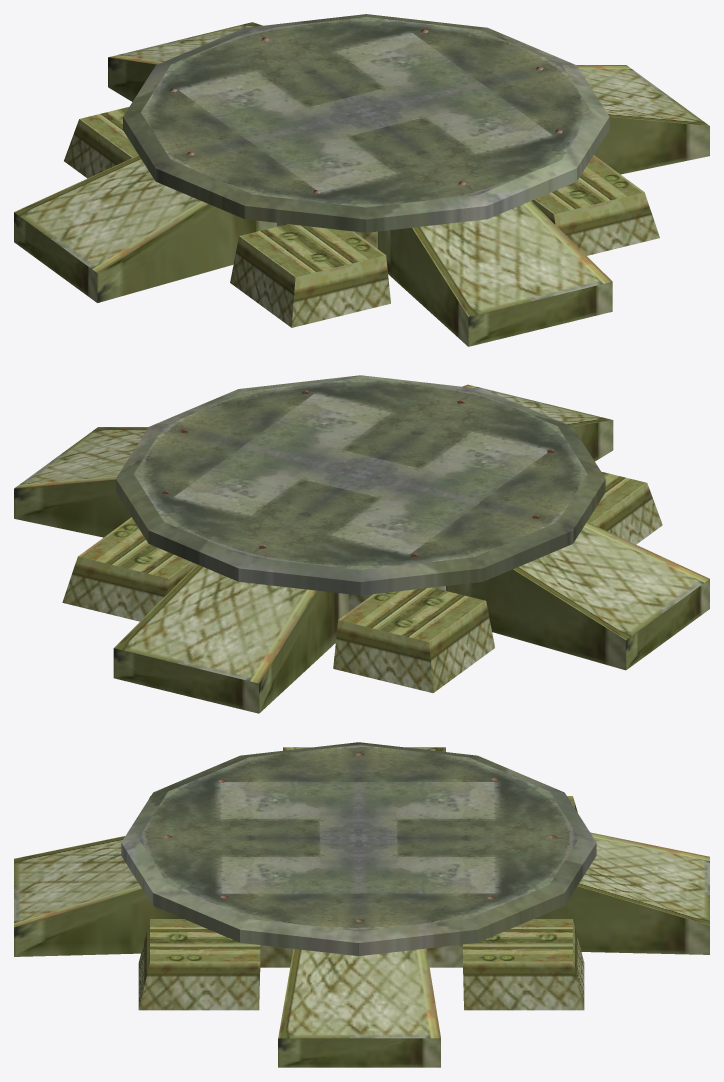
The model's file is C1SMHELIPADH.obj.
3 renders of one model, top to bottom at view 1: azimuth 30°, elevation 25°; view 2: azimuth 150°, elevation 25°; view 3: azimuth 270°, elevation 25°, orthographic. The views are drawn at different scales.
Visible parts, largest first — view 1: Node 0; view 2: Node 0; view 3: Node 0.
Part boxes in pixels (x1,y1,x2,y2): Node 0: (14, 14, 709, 346); Node 0: (14, 375, 709, 713); Node 0: (14, 742, 709, 1067).
Bounding box in the file's own units: 29.15 × 4.31 × 29.46.
Materials: 3 (3 with a texture image).
